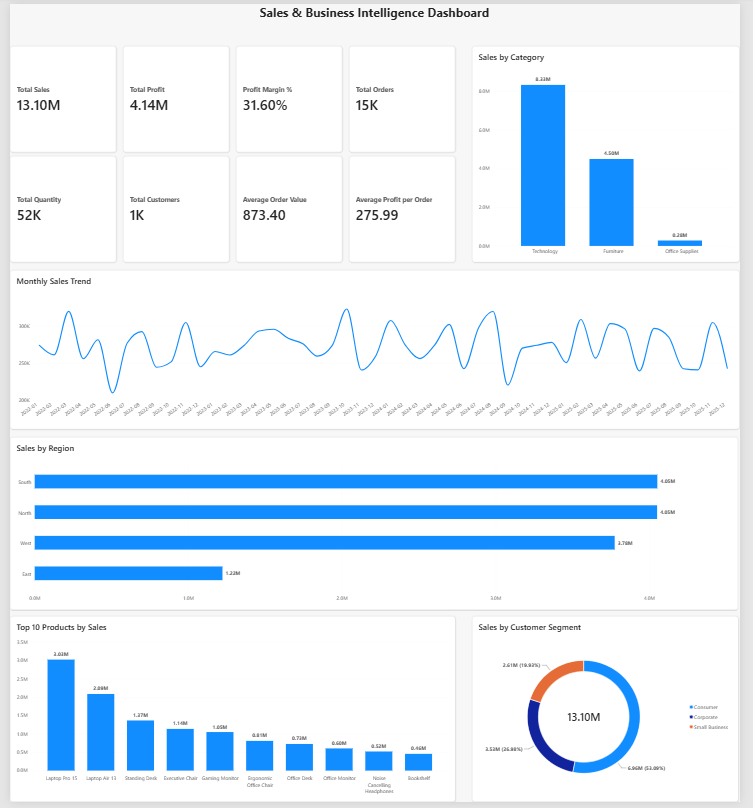

What the dashboard file says about the page in this screenshot:
{"tool":"powerbi","page":{"name":"Executive Overview","canvas":[1920,2100],"ordinal":0},"visuals":[{"type":"cardVisual","fields":{"Data":["sales_data.Total Sales"]},"box":[0,110.7,280,280],"z":0},{"type":"cardVisual","fields":{"Data":["sales_data.Total Profit"]},"box":[297.5,110.7,280,280],"z":1000},{"type":"cardVisual","fields":{"Data":["sales_data.Profit Margin %"]},"box":[595,110.7,280,280],"z":2000},{"type":"cardVisual","fields":{"Data":["sales_data.Total Orders"]},"box":[892.5,110.7,280,280],"z":3000},{"type":"cardVisual","fields":{"Data":["sales_data.Total Quantity"]},"box":[0,400.8,280,280],"z":4000},{"type":"cardVisual","fields":{"Data":["sales_data.Total Customers"]},"box":[297.5,400.8,280,280],"z":5000},{"type":"cardVisual","fields":{"Data":["sales_data.Average Order Value"]},"box":[595,400.8,280,280],"z":6000},{"type":"cardVisual","fields":{"Data":["sales_data.Average Profit per Order"]},"box":[892.5,400.8,280,280],"z":7000},{"type":"textbox","box":[3.3,0,1913.4,66.4],"z":8000},{"type":"lineChart","title":"Monthly Sales Trend","fields":{"Category":["DateTable.Year Month"],"Y":["sales_data.Total Sales"]},"box":[0,699.8,1920,418.5],"z":9000},{"type":"clusteredColumnChart","title":"Sales by Category","fields":{"Category":["DimProduct.Category"],"Y":["sales_data.Total Sales"]},"box":[1215.8,110.7,704.2,569.1],"z":10000},{"type":"clusteredBarChart","title":"Sales by Region","fields":{"Category":["DimCustomer.Region"],"Y":["sales_data.Total Sales"]},"box":[0,1140.5,1916.4,455.2],"z":11000},{"type":"lineClusteredColumnComboChart","title":"Top 10 Products by Sales","fields":{"Category":["sales_data.Product"],"Y":["sales_data.Total Sales"]},"box":[0,1611.2,1171.6,488.8],"z":12000},{"type":"donutChart","title":"Sales by Customer Segment","fields":{"Category":["DimCustomer.Customer Segment"],"Y":["sales_data.Total Sales"]},"box":[1215.5,1611.2,700.9,488.8],"z":13000}]}

Visuals, with their boxes in screenshot pixels (x1, y1, x2, y2), scaled from the page's 1920x2100 canvas onto the 753x808 screenshot:
cardVisual - sales_data.Total Sales: [x1=0, y1=43, x2=110, y2=150]
cardVisual - sales_data.Total Profit: [x1=117, y1=43, x2=226, y2=150]
cardVisual - sales_data.Profit Margin %: [x1=233, y1=43, x2=343, y2=150]
cardVisual - sales_data.Total Orders: [x1=350, y1=43, x2=460, y2=150]
cardVisual - sales_data.Total Quantity: [x1=0, y1=154, x2=110, y2=262]
cardVisual - sales_data.Total Customers: [x1=117, y1=154, x2=226, y2=262]
cardVisual - sales_data.Average Order Value: [x1=233, y1=154, x2=343, y2=262]
cardVisual - sales_data.Average Profit per Order: [x1=350, y1=154, x2=460, y2=262]
textbox: [x1=1, y1=0, x2=752, y2=26]
"Monthly Sales Trend" lineChart: [x1=0, y1=269, x2=752, y2=430]
"Sales by Category" clusteredColumnChart: [x1=477, y1=43, x2=752, y2=262]
"Sales by Region" clusteredBarChart: [x1=0, y1=439, x2=752, y2=614]
"Top 10 Products by Sales" lineClusteredColumnComboChart: [x1=0, y1=620, x2=459, y2=807]
"Sales by Customer Segment" donutChart: [x1=477, y1=620, x2=752, y2=807]
